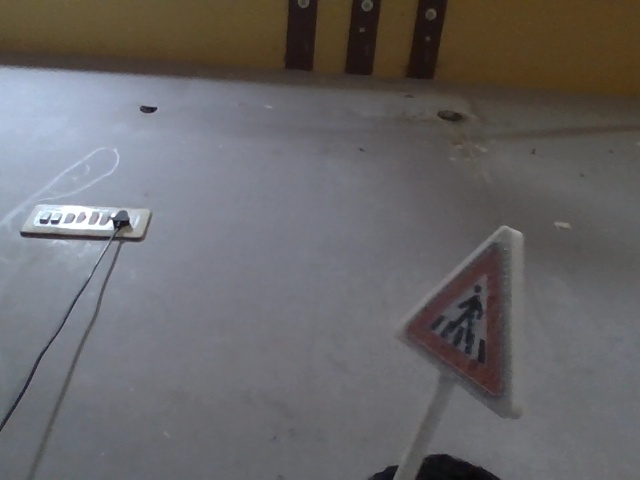crossing: (377, 226, 531, 409)
